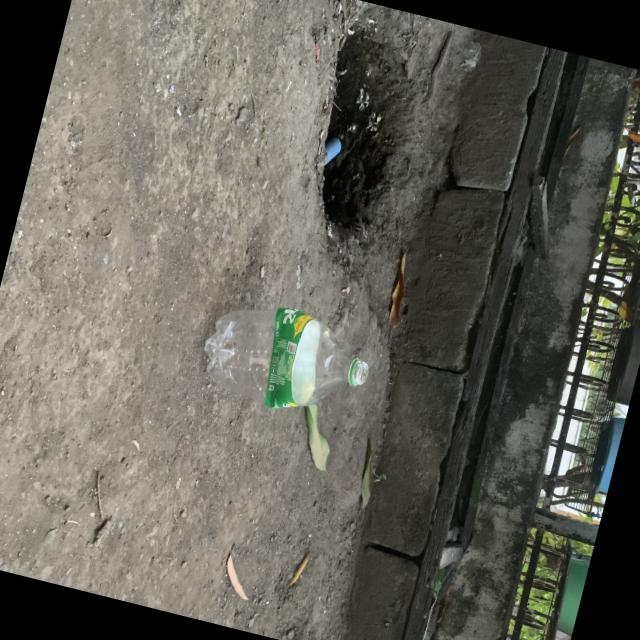Bottle: (203, 307, 367, 407)
